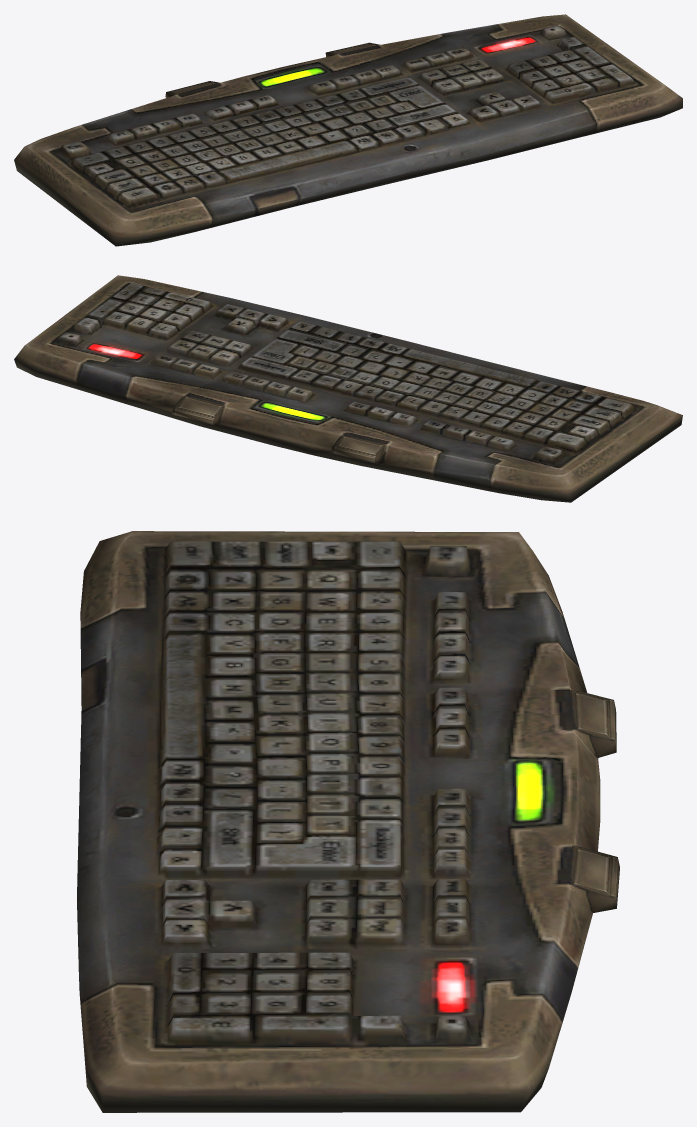
Rendered from keyboard_habitat.DAE.
3 views of the same model, one above another, from view 1: azimuth 30°, elevation 25°; view 2: azimuth 150°, elevation 25°; view 3: azimuth 270°, elevation 25° (orthographic). The views are drawn at different scales.
Parts seen in each view (by area): view 1: keyboard_habitat11; view 2: keyboard_habitat11; view 3: keyboard_habitat11.
Boxes of the visible parts, box(x1,y1,x2,y2) form: keyboard_habitat11: box(14, 14, 682, 246); keyboard_habitat11: box(14, 275, 682, 502); keyboard_habitat11: box(77, 531, 619, 1112).
Bounding box in the file's own units: 0.3989 × 0.1656 × 0.019.
